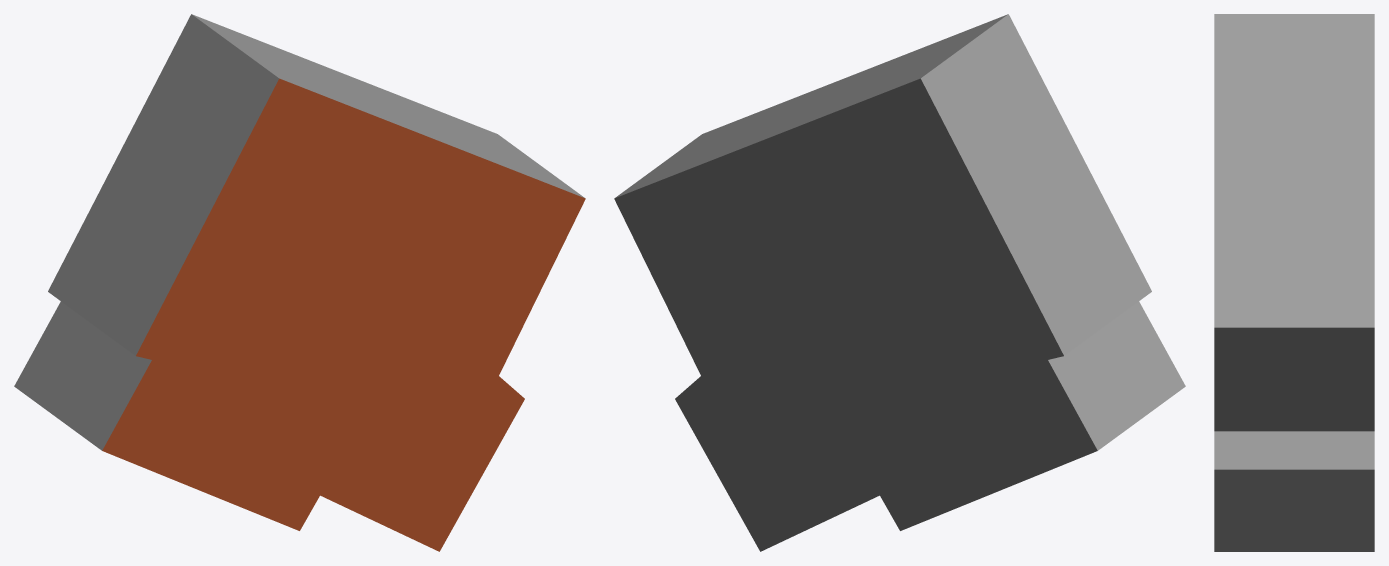
The model's file is construction_6416_assumed_A_Casa_h6m.obj.
3 renders of one model, left to right at view 1: azimuth 30°, elevation 25°; view 2: azimuth 150°, elevation 25°; view 3: azimuth 270°, elevation 25°, orthographic. The views are drawn at different scales.
Parts seen in each view (by area): view 1: construction_6416_assumed_A_Casa; view 2: construction_6416_assumed_A_Casa; view 3: construction_6416_assumed_A_Casa.
Boxes of the visible parts, x1,y1,x2,y2 form: construction_6416_assumed_A_Casa: (14,14,585,551); construction_6416_assumed_A_Casa: (614,14,1185,551); construction_6416_assumed_A_Casa: (1214,14,1374,551).
Bounding box in the file's own units: 19.03 × 19.27 × 6.
